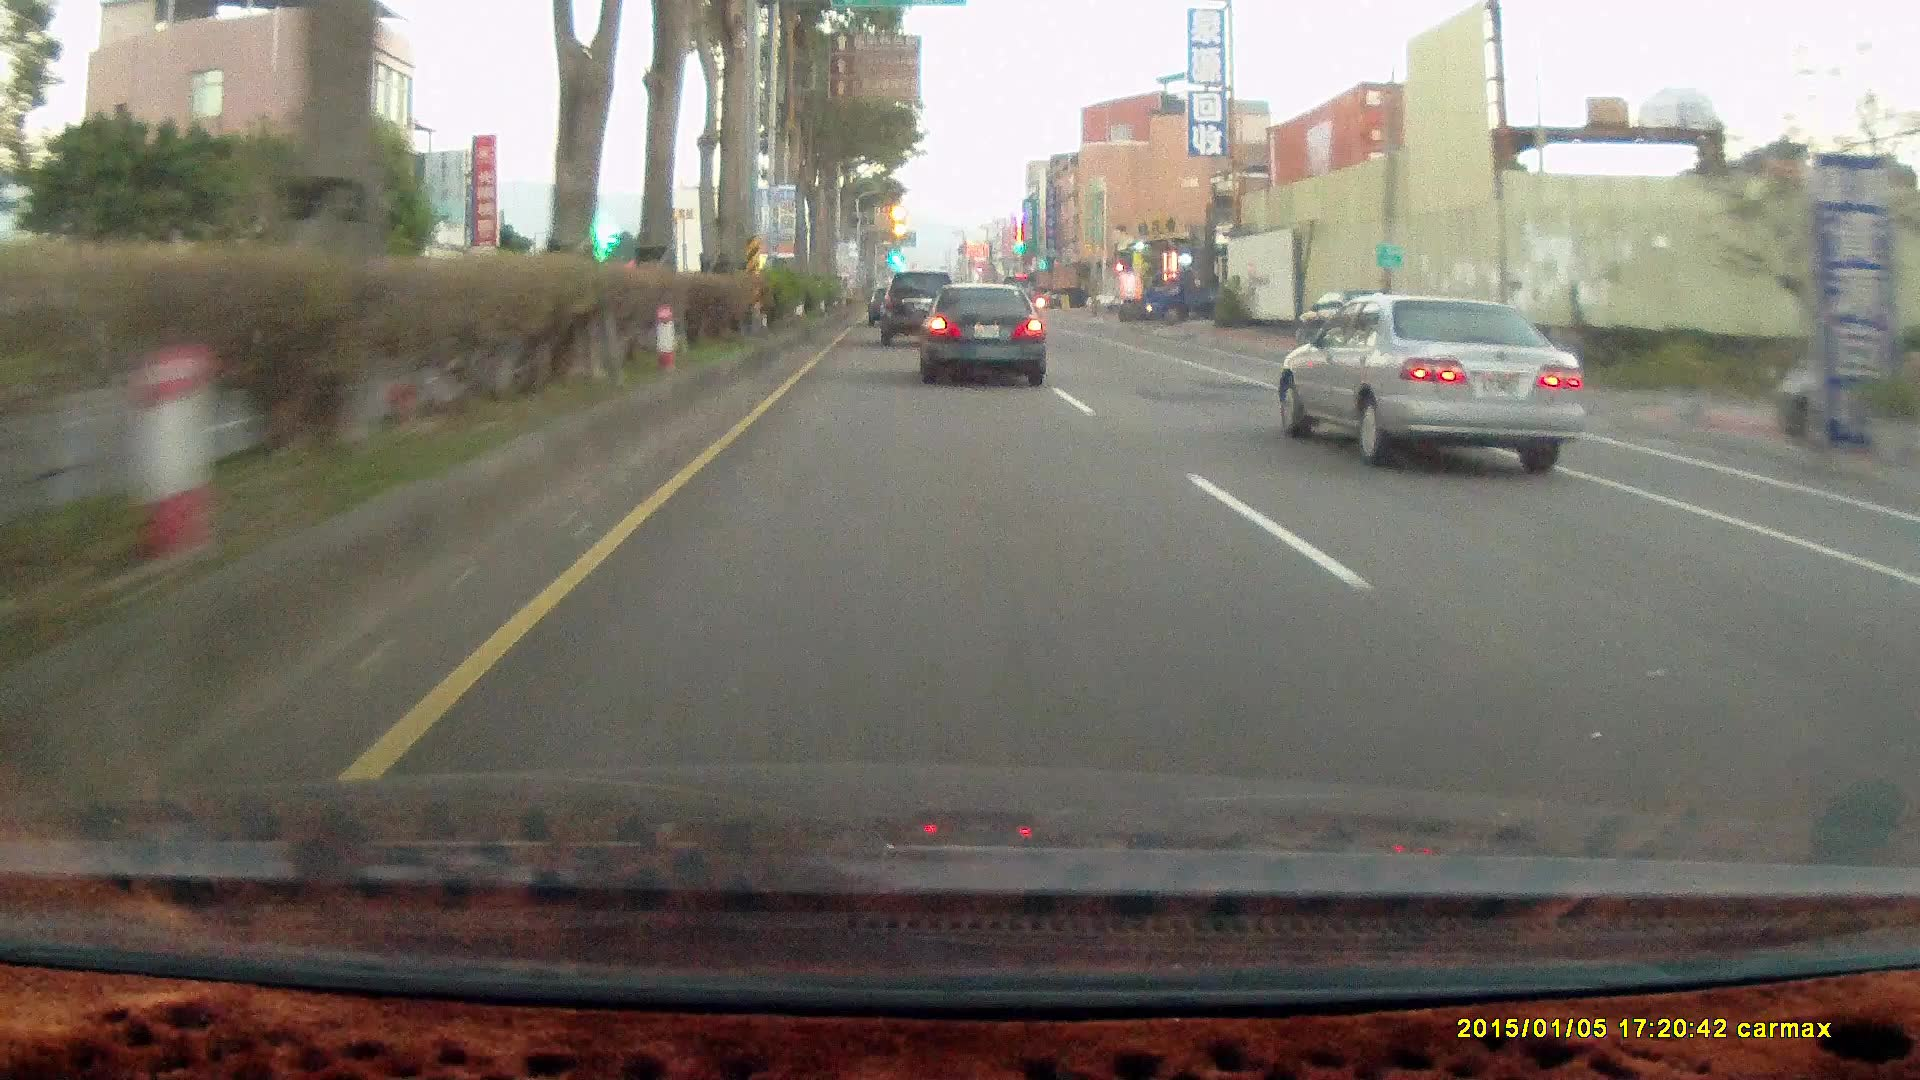vehicle: (1279, 291, 1597, 471), (1278, 291, 1585, 469), (913, 282, 1044, 386), (922, 285, 1052, 389), (880, 273, 960, 348), (880, 272, 960, 347), (1139, 266, 1225, 327), (1048, 286, 1089, 307)
